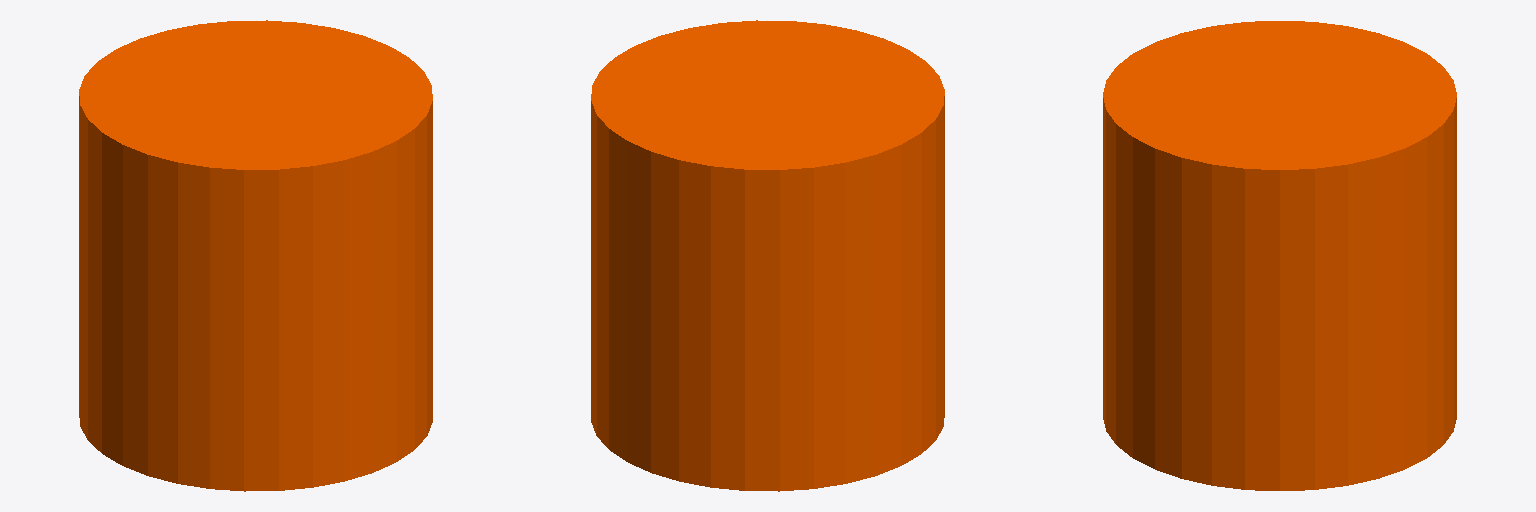
URDF robot description (abb_irb1600id):
<?xml version="1.0" ?>
<!-- =================================================================================== -->
<!-- |    This document was autogenerated by xacro from irb2400.xacro                  | -->
<!-- |    EDITING THIS FILE BY HAND IS NOT RECOMMENDED                                 | -->
<!-- =================================================================================== -->
<robot name="abb_irb1600id" xmlns:xacro="http://ros.org/wiki/xacro">
  <link name="base_link">
    <visual>
      <origin rpy="0 0 0" xyz="0 0 0.5"/>
      <geometry>
        <cylinder length="0.2" radius="0.1"/> </geometry>
      <material name="abb_orange">
        <color rgba="1 0.43 0 1"/>
      </material>
    </visual>
    <collision>
      <geometry>
       <cylinder length="0.2" radius="0.1"/> </geometry>
      <material name="yellow">
        <color rgba="0 1 1 1"/>
      </material>
    </collision>
  </link>
  <link name="link_1">
    <visual>
      <origin rpy="0 0 0" xyz="0 0 0"/>
      <geometry>
      <cylinder length="0.2" radius="0.1"/>  </geometry>
      <material name="abb_orange"/>
    </visual>
    <collision>
      <origin rpy="0 0 0" xyz="0 0 0"/>
      <geometry>
     <cylinder length="0.2" radius="0.1"/> </geometry>
      <material name="yellow"/>
    </collision>
  </link>
  <link name="link_2">
    <visual>
      <origin rpy="0 0 0" xyz="-0.15 0 -0.4865"/>
      <geometry>
     <cylinder length="0.2" radius="0.1"/> </geometry>
      <material name="abb_orange"/>
    </visual>
    <collision>
      <origin rpy="0 0 0" xyz="-0.15 0 -0.4865"/>
      <geometry>
     <cylinder length="0.2" radius="0.1"/> </geometry>
      <material name="yellow"/>
    </collision>
  </link>
  <link name="link_3">
    <visual>
      <origin rpy="0 0 0" xyz="-0.15 0 -1.1865"/>
      <geometry>
     <cylinder length="0.2" radius="0.1"/> </geometry>
      <material name="abb_orange"/>
    </visual>
    <collision>
      <origin rpy="0 0 0" xyz="-0.15 0 -1.1865"/>
      <geometry>
      <cylinder length="0.2" radius="0.1"/> </geometry>
      <material name="yellow"/>
    </collision>
  </link>
  <link name="link_4">
    <visual>
      <origin rpy="0 0 0" xyz="-0.301 0 -1.2965"/>
      <geometry>
     <cylinder length="0.2" radius="0.1"/> </geometry>
      <material name="abb_orange"/>
    </visual>
    <collision>
      <origin rpy="0 0 0" xyz="-0.301 0 -1.2965"/>
      <geometry>
     <cylinder length="0.2" radius="0.1"/>  </geometry>
      <material name="yellow"/>
    </collision>
  </link>
  <link name="link_5">
    <visual>
      <origin rpy="0 0 0" xyz="-0.79 0 -1.2965"/>
      <geometry>
     <cylinder length="0.2" radius="0.1"/> </geometry>
      <material name="abb_orange"/>
    </visual>
    <collision>
      <origin rpy="0 0 0" xyz="-0.79 0 -1.2965"/>
      <geometry>
     <cylinder length="0.2" radius="0.1"/>  </geometry>
      <material name="yellow"/>
    </collision>
  </link>
  <link name="link_6">
    <visual>
      <origin rpy="0 0 0" xyz="-0.99 0 -1.2965"/>
      <geometry>
     <cylinder length="0.2" radius="0.1"/> </geometry>
      <material name="abb_orange"/>
    </visual>
    <collision>
      <origin rpy="0 0 0" xyz="-0.99 0 -1.2965"/>
      <geometry>
     <cylinder length="0.2" radius="0.1"/> </geometry>
      <material name="yellow"/>
    </collision>
  </link>
  <link name="tool0"/>
  <joint name="joint_1" type="revolute">
    <origin rpy="0 0 0" xyz="0 0 0.5"/>
    <parent link="base_link"/>
    <child link="link_1"/>
    <axis xyz="0 0 1"/>
    <limit effort="0" lower="-3.1416" upper="3.1416" velocity="3.142"/>
    <calibration falling="0" rising="0"/>
    <dynamics damping="0" friction="0"/>
  </joint>
  <joint name="joint_2" type="revolute">
    <origin rpy="0 0 0" xyz="0.15 0 0.4865"/>
    <parent link="link_1"/>
    <child link="link_2"/>
    <axis xyz="0 1 0"/>
    <limit effort="0" lower="-1.5708" upper="2.6180" velocity="3.142"/>
    <calibration falling="0" rising="0"/>
    <dynamics damping="0" friction="0"/>
  </joint>
  <joint name="joint_3" type="revolute">
    <origin rpy="0 0 0" xyz="0 0 0.700"/>
    <parent link="link_2"/>
    <child link="link_3"/>
    <axis xyz="0 1 0"/>
    <limit effort="0" lower="-4.1539" upper="1.3788" velocity="3.142"/>
    <calibration falling="0" rising="0"/>
    <dynamics damping="0" friction="0"/>
  </joint>
  <joint name="joint_4" type="revolute">
    <origin rpy="0 0 0" xyz="0.151 0 0.110"/>
    <parent link="link_3"/>
    <child link="link_4"/>
    <axis xyz="1 0 0"/>
    <limit effort="0" lower="-2.7925" upper="2.7925" velocity="5.585"/>
    <calibration falling="0" rising="0"/>
    <dynamics damping="0" friction="0"/>
  </joint>
  <joint name="joint_5" type="revolute">
    <origin rpy="0 0 0" xyz="0.489 0 0"/>
    <parent link="link_4"/>
    <child link="link_5"/>
    <axis xyz="0 1 0"/>
    <limit effort="0" lower="-1.5708" upper="2.3562" velocity="6.632"/>
    <calibration falling="0" rising="0"/>
    <dynamics damping="0" friction="0"/>
  </joint>
  <joint name="joint_6" type="revolute">
    <origin rpy="0 0 0" xyz="0.2 0 0"/>
    <parent link="link_5"/>
    <child link="link_6"/>
    <axis xyz="1 0 0"/>
    <limit effort="0" lower="-3.4907" upper="3.4907" velocity="8.029"/>
    <calibration falling="0" rising="0"/>
    <dynamics damping="0" friction="0"/>
  </joint>
  <joint name="joint_6-tool0" type="fixed">
    <parent link="link_6"/>
    <child link="tool0"/>
    <origin rpy="0 0 0" xyz="0 0 0"/>
  </joint>
</robot>

--- What the picture shows (computed from the rendered views, not written in the file) ---
Views: 3 orthographic renders of the robot side by side, from view 1: azimuth 30°, elevation 25°; view 2: azimuth 150°, elevation 25°; view 3: azimuth 270°, elevation 25°.
Robot: abb_irb1600id — 8 links, 7 joints (6 revolute, 1 fixed); root link base_link; default pose: every joint at zero.
Visible links, largest first — view 1: base_link; view 2: base_link; view 3: base_link.
Link boxes in pixels (left/top/right/bottom): base_link: left=79, top=20, right=432, bottom=491; base_link: left=591, top=20, right=944, bottom=491; base_link: left=1103, top=21, right=1456, bottom=490.
Bounding box of the posed robot: 0.2 × 0.2 × 0.2 m (x, y, z).
Geometry: primitives only (box / cylinder / sphere), no mesh files.